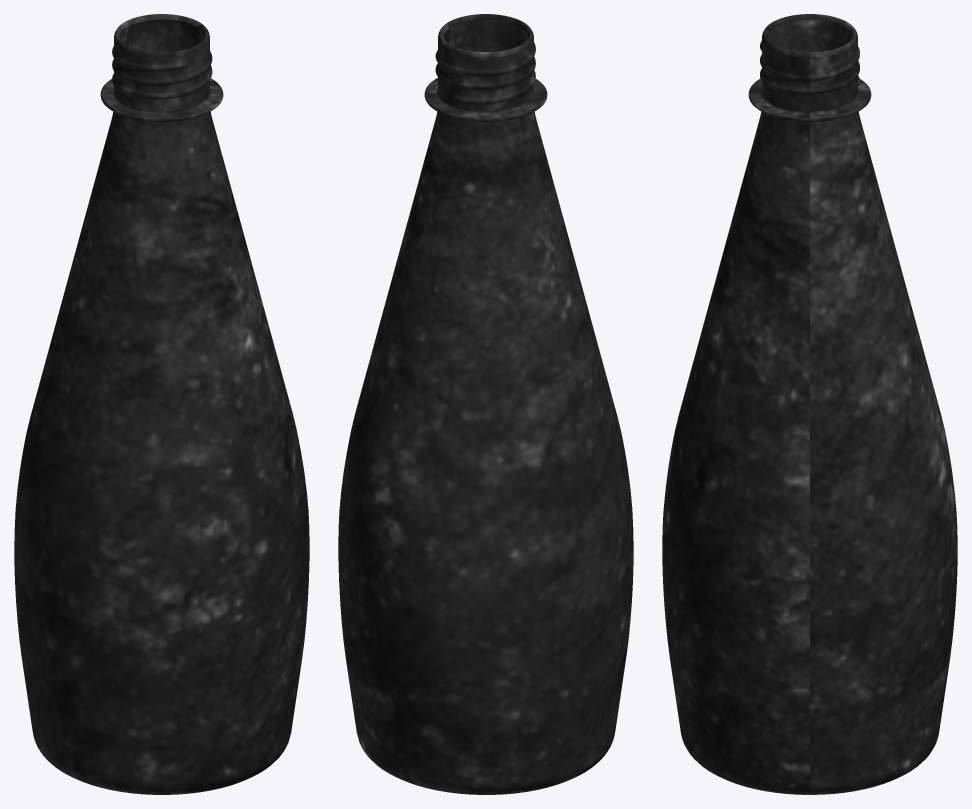
File: SM_Bottle_04.fbx
3 renders of one model, left to right at view 1: azimuth 30°, elevation 25°; view 2: azimuth 150°, elevation 25°; view 3: azimuth 270°, elevation 25°, orthographic.
Parts seen in each view (by area): view 1: SM_Bottle_04; view 2: SM_Bottle_04; view 3: SM_Bottle_04.
Part boxes in pixels (left/top/right/bottom): SM_Bottle_04: left=14, top=14, right=309, bottom=794; SM_Bottle_04: left=338, top=14, right=633, bottom=794; SM_Bottle_04: left=662, top=14, right=957, bottom=794.
Size of the model in its own units: 13.16 by 13.16 by 35.07.
Materials: 1 (1 with a texture image).
